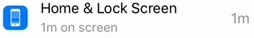name: (36, 1, 183, 17)
time: (39, 20, 60, 36)
